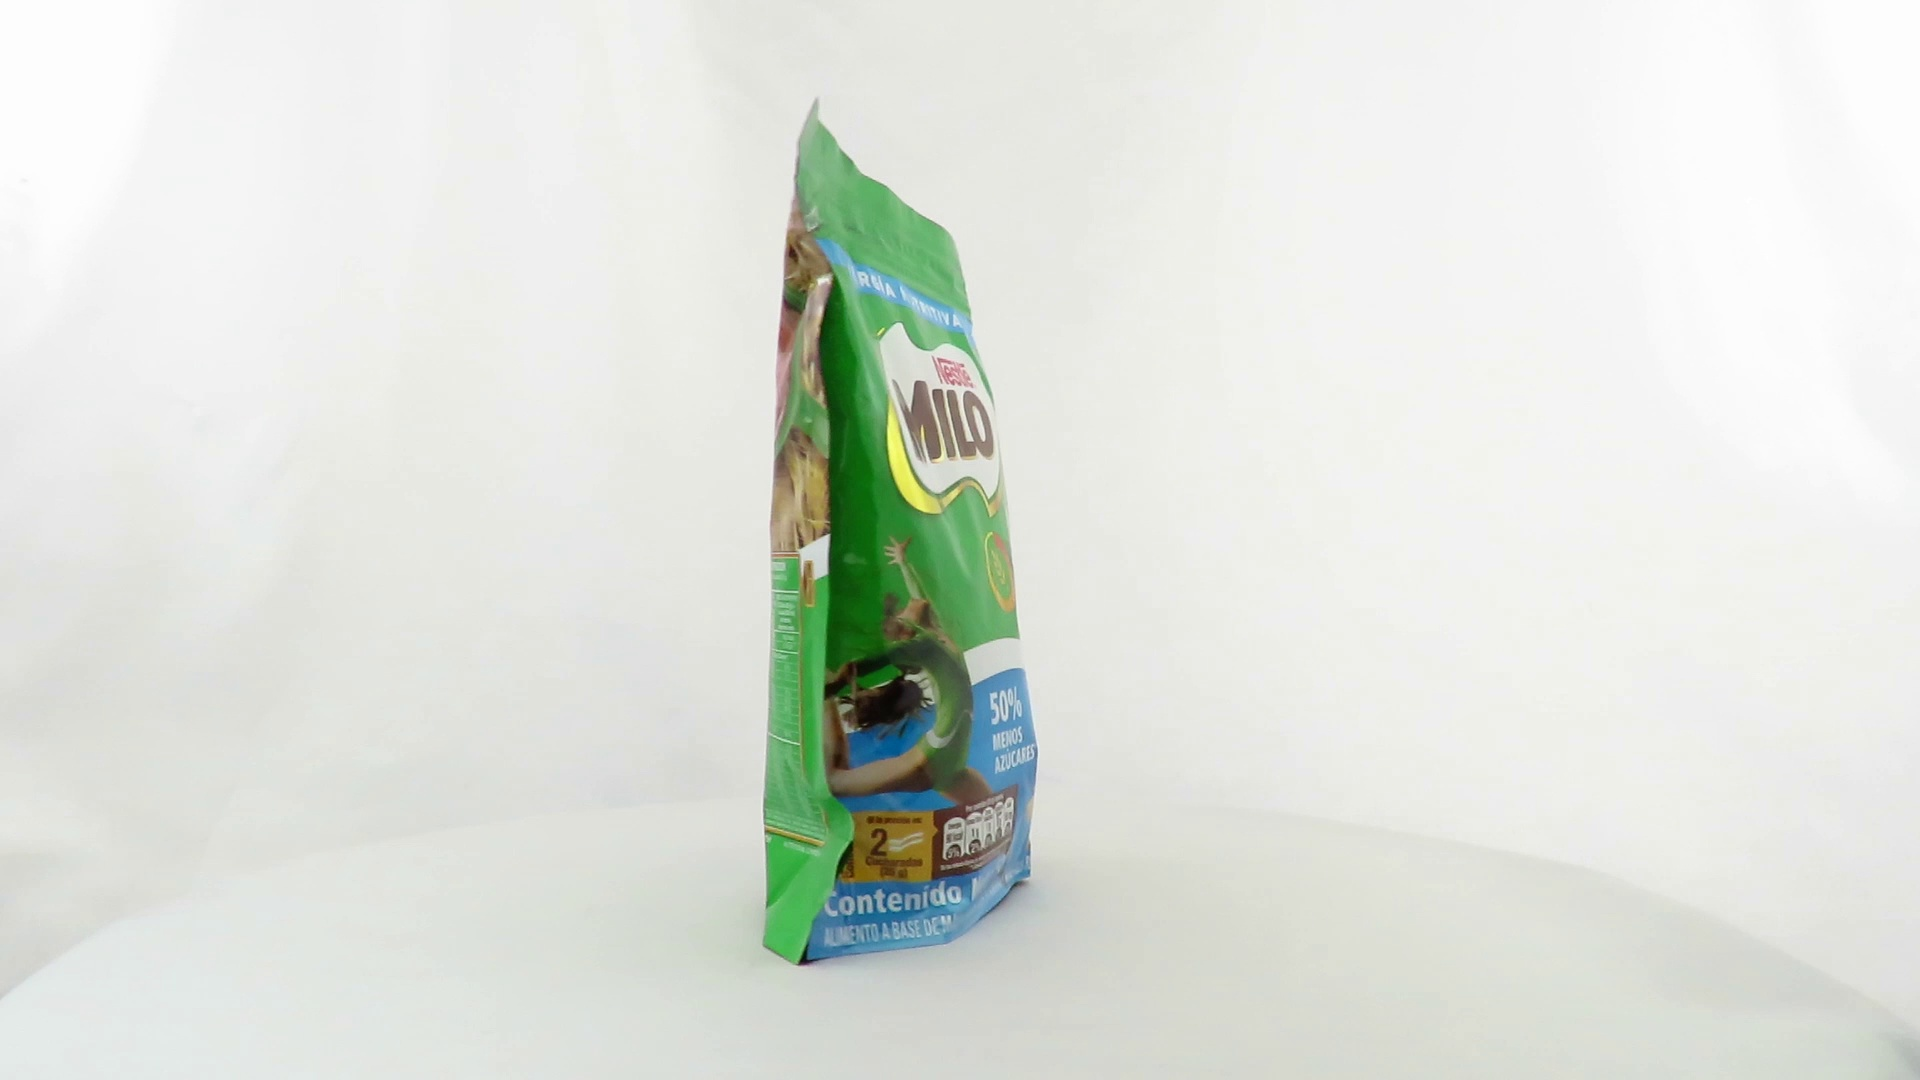COL0170205DYP50000: (757, 92, 1044, 972)
